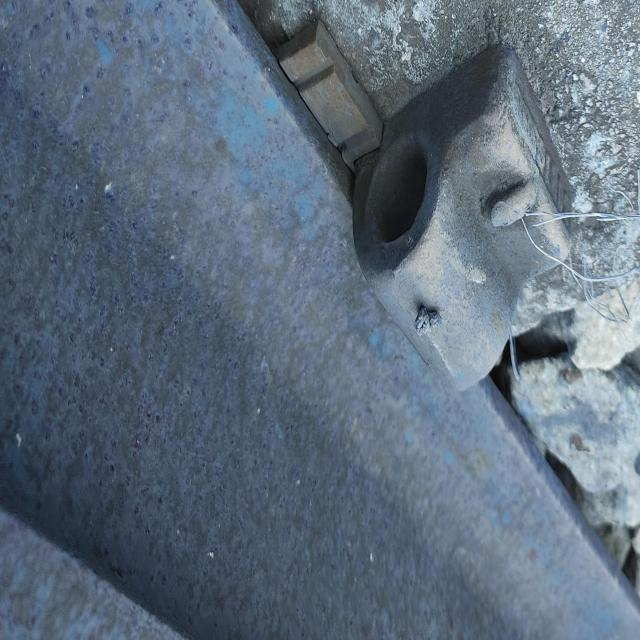Missing Fastener: (320, 41, 640, 414)
